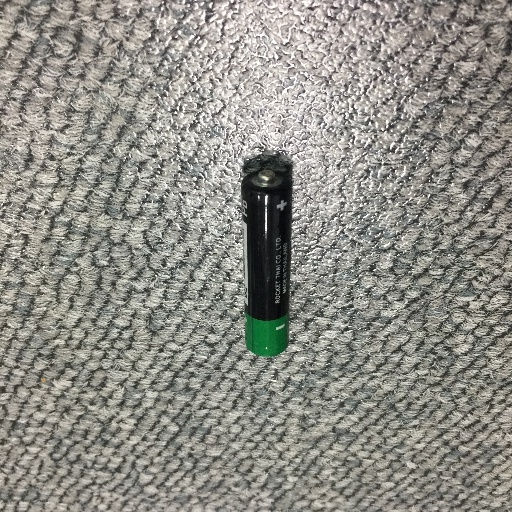Battery_0: (235, 163, 300, 366)
